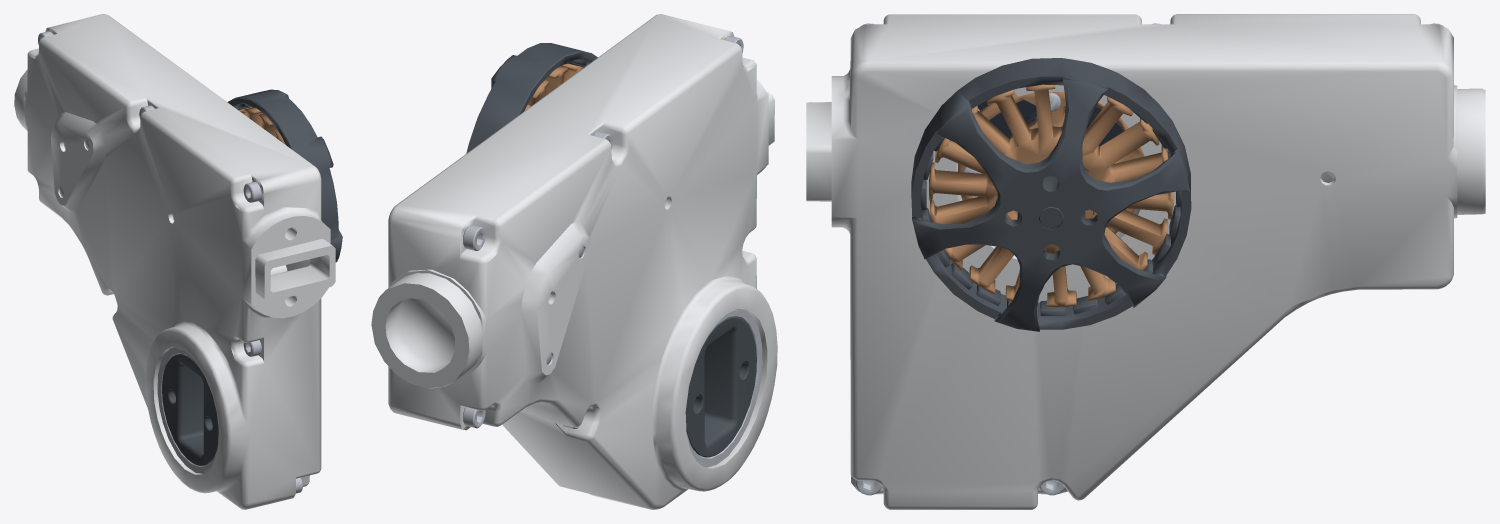
Rendered from left_hip_fe_LOD0.fbx.
3 views of the same model, side by side, from view 1: azimuth 30°, elevation 25°; view 2: azimuth 150°, elevation 25°; view 3: azimuth 270°, elevation 25° (orthographic). The views are drawn at different scales.
Parts seen in each view (by area): view 1: MM_bolt_hip_fe_structure_left_side_bl_biped_736d8f71dd, MM_bolt_transmission_pulley_at3_t30_output_b5551f7e10, MM_bolt_motor_antigravity_4004_rotor_77b643466c, MM_bolt_bearing_32_25_4_sbn_61705rs_a1e2702957, MM_bolt_motor_antigravity_4004_stator_7f8beec5fc; view 2: MM_bolt_hip_fe_structure_left_side_bl_biped_736d8f71dd, MM_bolt_transmission_pulley_at3_t30_output_b5551f7e10, MM_bolt_motor_antigravity_4004_rotor_77b643466c, MM_bolt_bearing_32_25_4_sbn_61705rs_a1e2702957, MM_bolt_motor_antigravity_4004_stator_7f8beec5fc, MM_bolt_fastener_shcs_m2_5_6_0aac8257fc; view 3: MM_bolt_hip_fe_structure_left_side_bl_biped_736d8f71dd, MM_bolt_motor_antigravity_4004_rotor_77b643466c, MM_bolt_motor_antigravity_4004_stator_7f8beec5fc.
Boxes of the visible parts, x1=… form: MM_bolt_hip_fe_structure_left_side_bl_biped_736d8f71dd: x1=14, y1=14, x2=335, y2=509; MM_bolt_transmission_pulley_at3_t30_output_b5551f7e10: x1=162, y1=354, x2=218, y2=465; MM_bolt_motor_antigravity_4004_rotor_77b643466c: x1=227, y1=89, x2=342, y2=262; MM_bolt_bearing_32_25_4_sbn_61705rs_a1e2702957: x1=157, y1=347, x2=218, y2=473; MM_bolt_motor_antigravity_4004_stator_7f8beec5fc: x1=239, y1=107, x2=285, y2=144; MM_bolt_hip_fe_structure_left_side_bl_biped_736d8f71dd: x1=371, y1=14, x2=777, y2=509; MM_bolt_transmission_pulley_at3_t30_output_b5551f7e10: x1=685, y1=317, x2=756, y2=457; MM_bolt_motor_antigravity_4004_rotor_77b643466c: x1=466, y1=43, x2=597, y2=153; MM_bolt_bearing_32_25_4_sbn_61705rs_a1e2702957: x1=686, y1=309, x2=762, y2=467; MM_bolt_motor_antigravity_4004_stator_7f8beec5fc: x1=524, y1=63, x2=583, y2=110; MM_bolt_fastener_shcs_m2_5_6_0aac8257fc: x1=463, y1=224, x2=485, y2=250; MM_bolt_hip_fe_structure_left_side_bl_biped_736d8f71dd: x1=806, y1=14, x2=1485, y2=509; MM_bolt_motor_antigravity_4004_rotor_77b643466c: x1=911, y1=58, x2=1191, y2=331; MM_bolt_motor_antigravity_4004_stator_7f8beec5fc: x1=929, y1=84, x2=1173, y2=307.
Bounding box in the file's own units: 0.0389 × 0.0808 × 0.1078.
